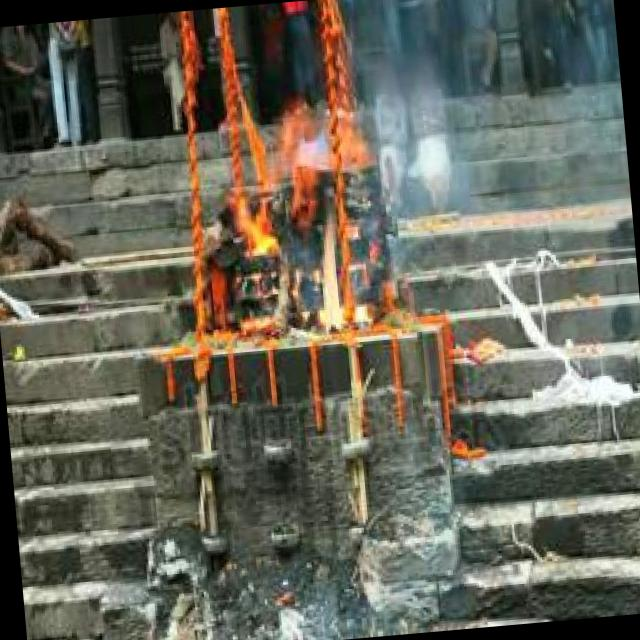Fire: (222, 102, 352, 339)
